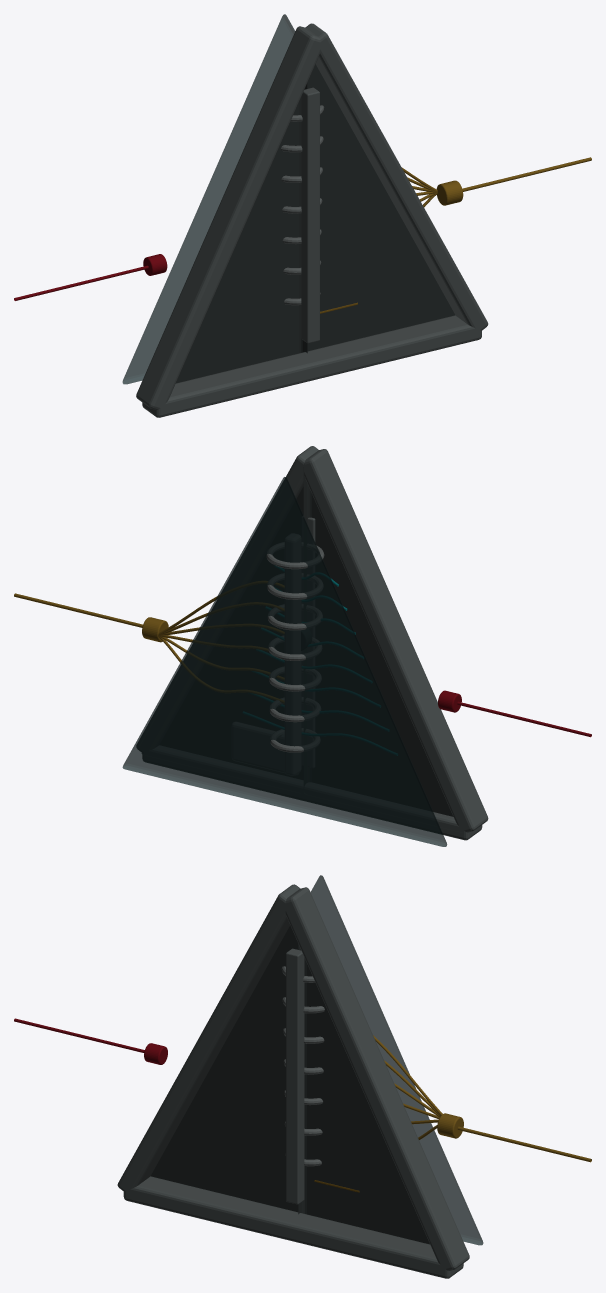
The model's file is clervo-prism.glb.
The picture shows the model from 3 angles, top to bottom: view 1: azimuth 30°, elevation 25°; view 2: azimuth 150°, elevation 25°; view 3: azimuth 330°, elevation 25°; orthographic projection.
Parts seen in each view (by area): view 1: ShellPetalRight, ShellPetalLeft, FrameRail_03, FrameRail_01, FrameRail_02, EvidenceBackplate, CoreCenterSeal, OutcomeLens, OutcomeBeam, RequestBeam; view 2: EvidenceBackplate, ShellPetalLeft, FrameRail_03, ShellPetalRight, FrameRail_01, FrameRail_02, CoreSpine, ReceiptWafer, CoreCenterSeal, CoreRing_07, CoreRing_06, CoreRing_05 (+4 smaller); view 3: ShellPetalLeft, ShellPetalRight, FrameRail_02, FrameRail_01, FrameRail_03, EvidenceBackplate, CoreCenterSeal, OutcomeBeam, OutcomeLens.
Part boxes in pixels (left/top/right/bottom): ShellPetalRight: left=307, top=64, right=454, bottom=351; ShellPetalLeft: left=176, top=83, right=307, bottom=383; FrameRail_03: left=136, top=26, right=320, bottom=409; FrameRail_01: left=142, top=315, right=481, bottom=417; FrameRail_02: left=305, top=23, right=488, bottom=331; EvidenceBackplate: left=122, top=14, right=295, bottom=384; CoreCenterSeal: left=301, top=87, right=319, bottom=343; OutcomeLens: left=436, top=180, right=463, bottom=205; OutcomeBeam: left=462, top=157, right=591, bottom=191; RequestBeam: left=14, top=265, right=148, bottom=300; EvidenceBackplate: left=122, top=477, right=447, bottom=846; ShellPetalLeft: left=303, top=464, right=463, bottom=832; FrameRail_03: left=301, top=449, right=488, bottom=832; ShellPetalRight: left=142, top=486, right=303, bottom=779; FrameRail_01: left=142, top=745, right=482, bottom=840; FrameRail_02: left=136, top=446, right=318, bottom=753; CoreSpine: left=285, top=533, right=301, bottom=775; ReceiptWafer: left=232, top=722, right=298, bottom=775; CoreCenterSeal: left=302, top=516, right=315, bottom=767; CoreRing_07: left=266, top=542, right=324, bottom=569; CoreRing_06: left=267, top=573, right=323, bottom=599; CoreRing_05: left=267, top=604, right=322, bottom=630; ShellPetalLeft: left=150, top=925, right=298, bottom=1212; ShellPetalRight: left=298, top=944, right=429, bottom=1244; FrameRail_02: left=283, top=887, right=469, bottom=1270; FrameRail_01: left=123, top=1176, right=463, bottom=1278; FrameRail_03: left=117, top=884, right=300, bottom=1192; EvidenceBackplate: left=310, top=875, right=483, bottom=1245; CoreCenterSeal: left=286, top=948, right=304, bottom=1204; OutcomeBeam: left=457, top=1126, right=591, bottom=1162; OutcomeLens: left=437, top=1113, right=463, bottom=1138.
Bounding box in the file's own units: 9 × 5.14 × 1.07.
